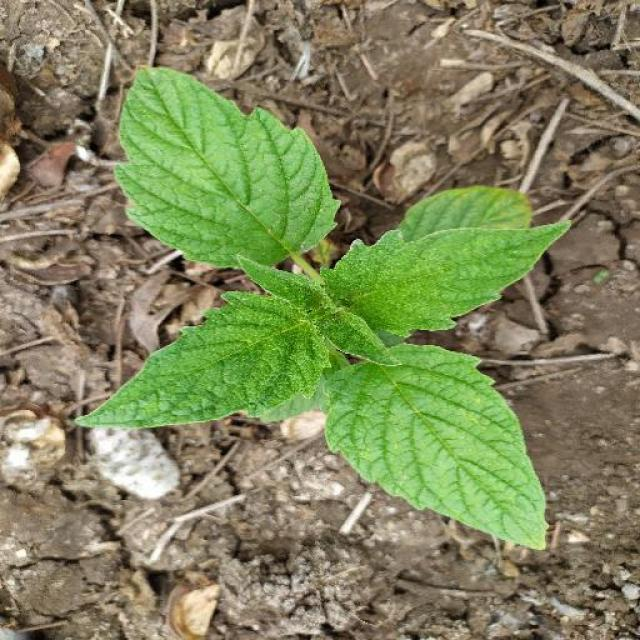crop: (70, 44, 574, 565)
